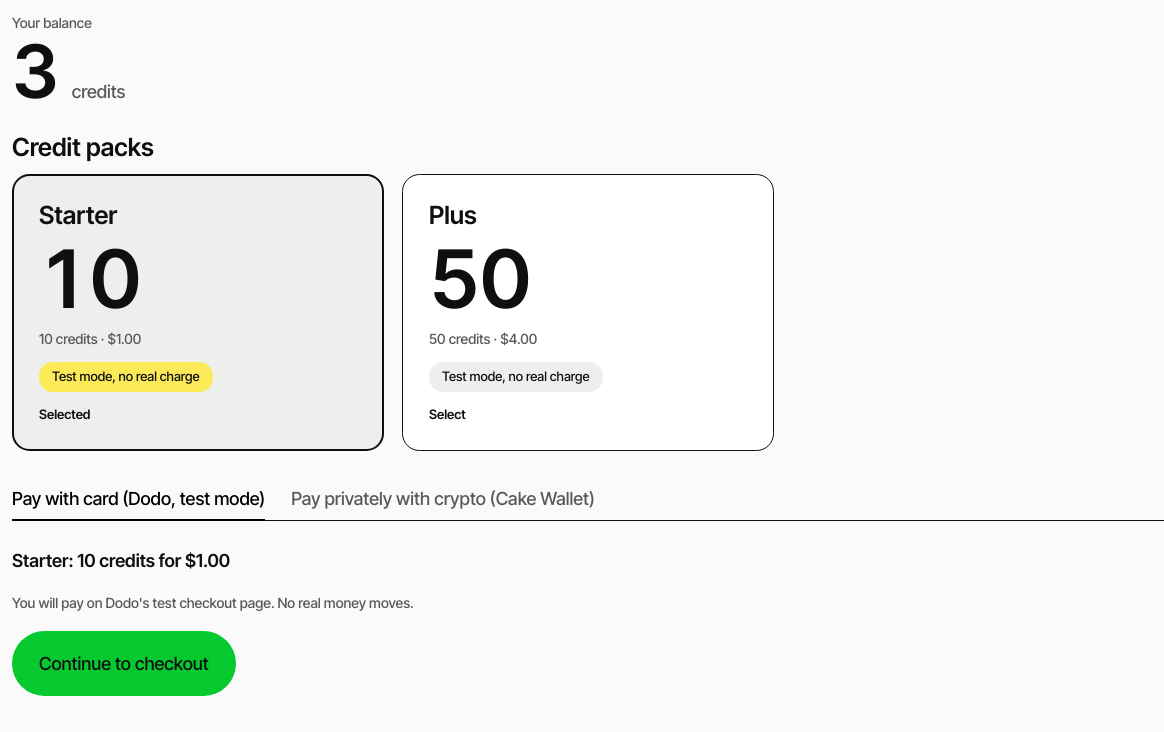
Test: CreditsContent › shows the balance and packs, and selecting a pack marks it pressed
Expected: the text "Test mode, no real charge" is shown 2 times, [39,362,212,392]; [429,362,602,392]
Click the button with aria-label "Plus: 50 credits for $4.00". click: point(453, 215)
box: [402,174,774,451]
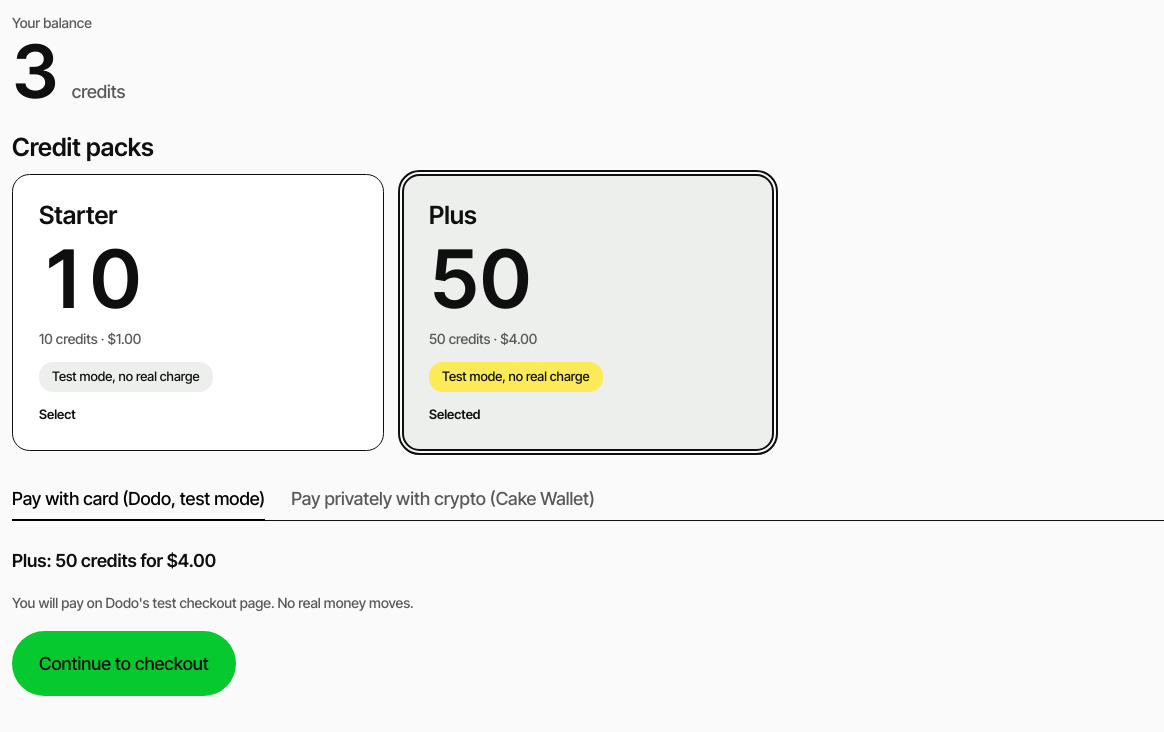
Now the text "Plus: 50 credits for $4.00" is shown, box [12,550,216,571]
